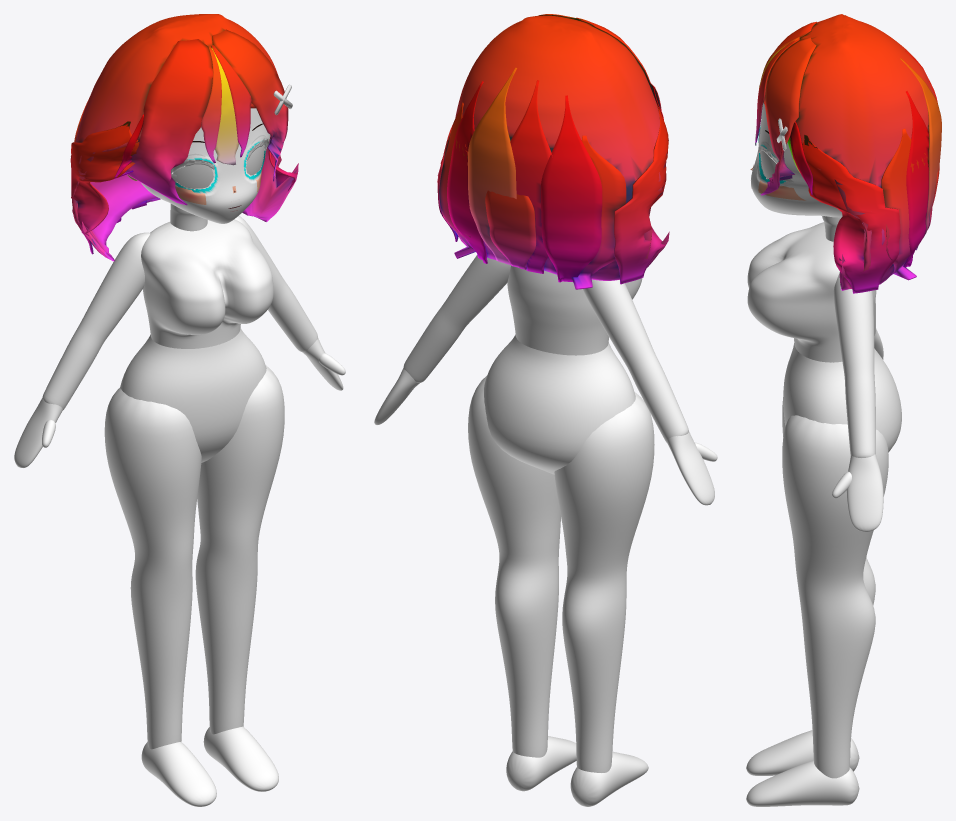
File: MG_ToonTest_01_v6h_C2_eye.fbx
3 renders of one model, left to right at view 1: azimuth 30°, elevation 25°; view 2: azimuth 150°, elevation 25°; view 3: azimuth 270°, elevation 25°, orthographic. The views are drawn at different scales.
Parts seen in each view (by area): view 1: Blockout_Leg.R, Blockout_Leg.L, hair_bob_01__Bangs, Blockout_Torso, hair_bob_01__Volume, Blockout_Pelvis, Blockout_Arm.R, Blockout_Head, hair_bob_01__Side_R, Blockout_Foot.R, Blockout_Foot.L, Blockout_Arm.L (+4 smaller); view 2: Blockout_Leg.R, hair_bob_01__Back, hair_bob_01__Volume, Blockout_Leg.L, Blockout_Pelvis, hair_bob_01__Side_R, Blockout_Torso, Blockout_Arm.R, Blockout_Arm.L, Blockout_Foot.R, Blockout_Foot.L, Blockout_Hand.R (+2 smaller); view 3: Blockout_Leg.L, hair_bob_01__Volume, hair_bob_01__Side_L, Blockout_Torso, Blockout_Pelvis, Blockout_Arm.L, hair_bob_01__Bangs, hair_bob_01__Back, Blockout_Foot.L, Blockout_Hand.L, Blockout_Head, Blockout_Foot.R (+3 smaller).
Boxes of the visible parts, left/top/right/bottom form: Blockout_Leg.R: left=104, top=388, right=201, bottom=749; Blockout_Leg.L: left=195, top=365, right=284, bottom=734; hair_bob_01__Bangs: left=125, top=29, right=288, bottom=205; Blockout_Torso: left=141, top=219, right=273, bottom=348; hair_bob_01__Volume: left=72, top=14, right=298, bottom=261; Blockout_Pelvis: left=120, top=328, right=266, bottom=462; Blockout_Arm.R: left=42, top=232, right=150, bottom=409; Blockout_Head: left=141, top=108, right=270, bottom=223; hair_bob_01__Side_R: left=70, top=81, right=139, bottom=254; Blockout_Foot.R: left=141, top=742, right=216, bottom=806; Blockout_Foot.L: left=203, top=726, right=278, bottom=791; Blockout_Arm.L: left=235, top=216, right=317, bottom=352; Blockout_Leg.R: left=554, top=392, right=654, bottom=772; hair_bob_01__Back: left=447, top=67, right=602, bottom=282; hair_bob_01__Volume: left=437, top=15, right=669, bottom=280; Blockout_Leg.L: left=468, top=376, right=560, bottom=757; Blockout_Pelvis: left=484, top=334, right=635, bottom=474; hair_bob_01__Side_R: left=571, top=102, right=668, bottom=289; Blockout_Torso: left=507, top=265, right=642, bottom=355; Blockout_Arm.R: left=582, top=279, right=688, bottom=442; Blockout_Arm.L: left=403, top=255, right=510, bottom=382; Blockout_Foot.R: left=570, top=751, right=648, bottom=806; Blockout_Foot.L: left=506, top=736, right=576, bottom=791; Blockout_Hand.R: left=667, top=431, right=717, bottom=505; Blockout_Leg.L: left=782, top=415, right=888, bottom=778; hair_bob_01__Volume: left=763, top=14, right=935, bottom=290; hair_bob_01__Side_L: left=792, top=128, right=928, bottom=293; Blockout_Torso: left=747, top=222, right=876, bottom=362; Blockout_Pelvis: left=783, top=343, right=901, bottom=452; Blockout_Arm.L: left=833, top=272, right=875, bottom=457; hair_bob_01__Bangs: left=755, top=21, right=817, bottom=195; hair_bob_01__Back: left=900, top=51, right=941, bottom=267; Blockout_Foot.L: left=746, top=760, right=859, bottom=806; Blockout_Hand.L: left=832, top=454, right=883, bottom=532; Blockout_Head: left=751, top=103, right=842, bottom=217; Blockout_Foot.R: left=746, top=730, right=859, bottom=775.
Size of the model in its own units: 74.75 by 165 by 38.63.
